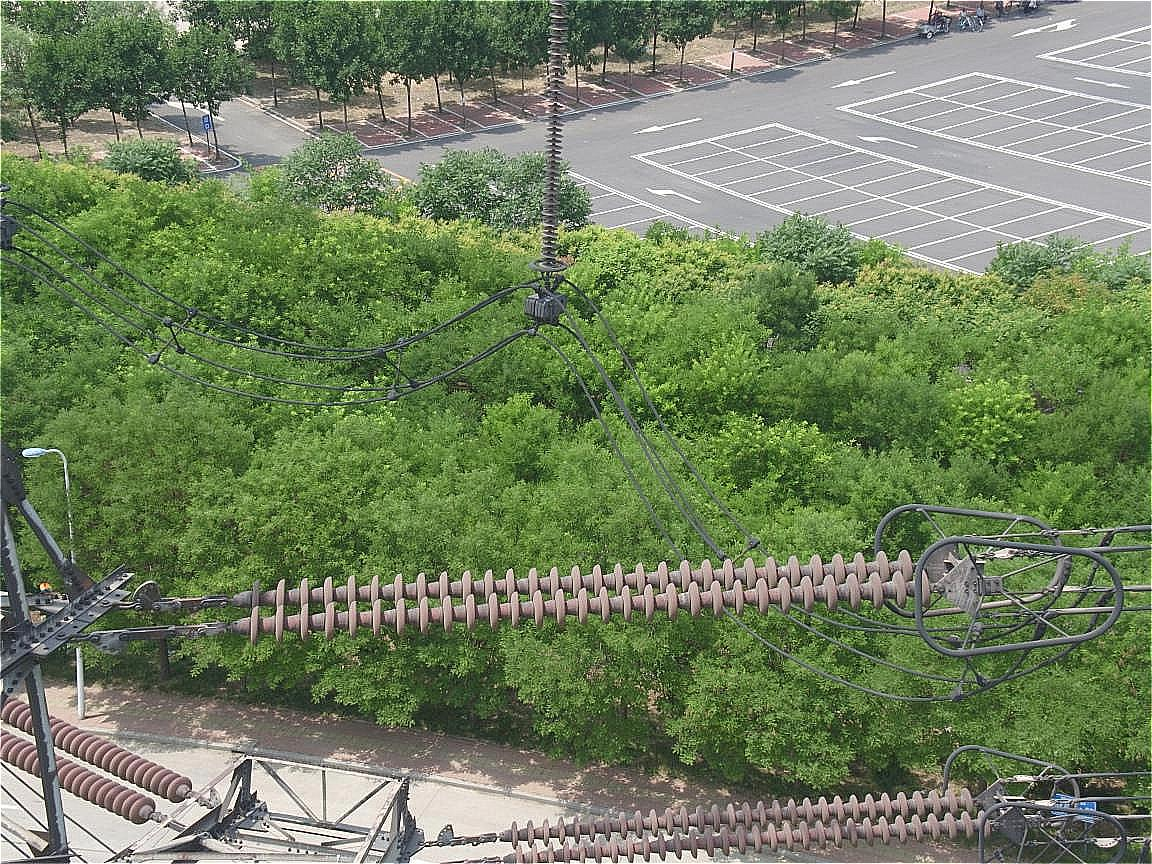insultor1: (222, 532, 949, 648), (490, 776, 1007, 864), (1, 678, 198, 829)
